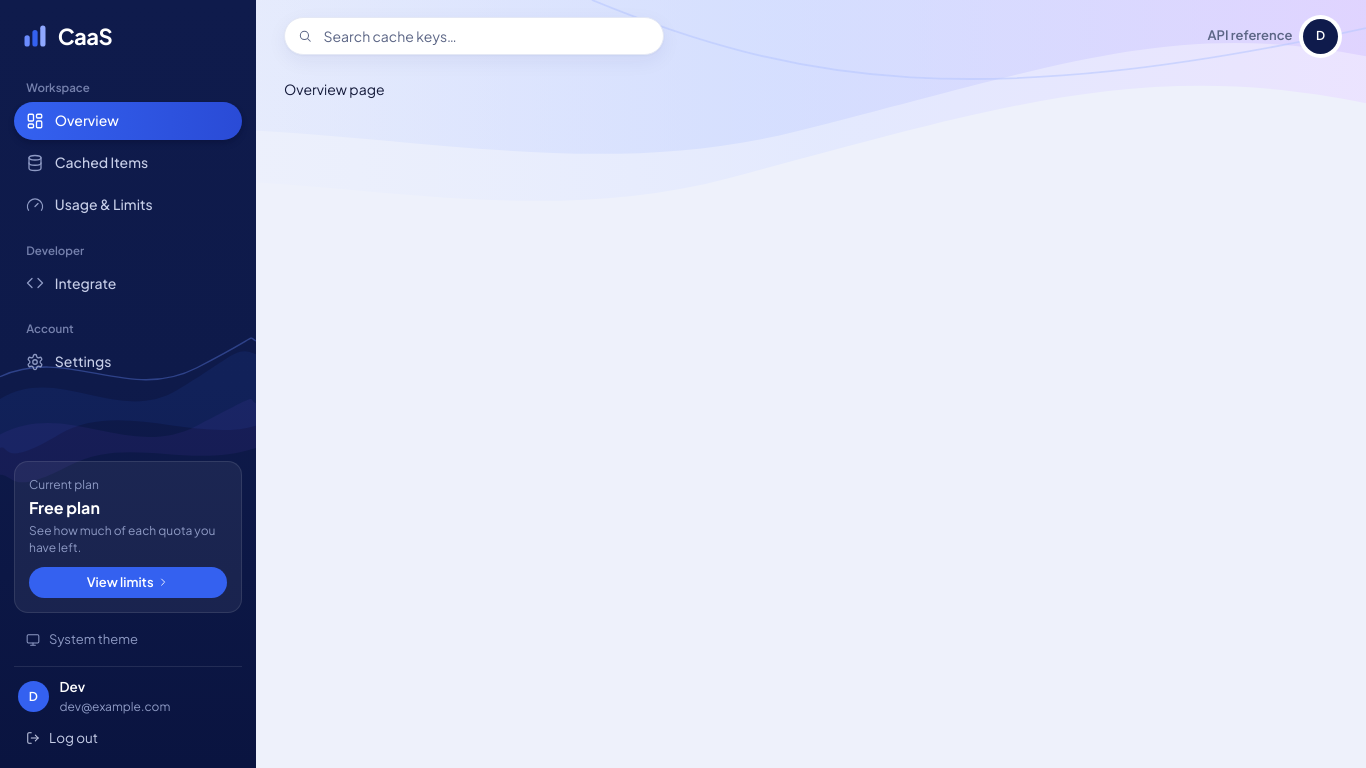
AppShell sidebar navigation › marks the active route and updates the breadcrumb
Expected: the text "Overview page" is shown, [284,80,385,98]
Click the link "Cached Items": (87, 163) [26,153,148,172]
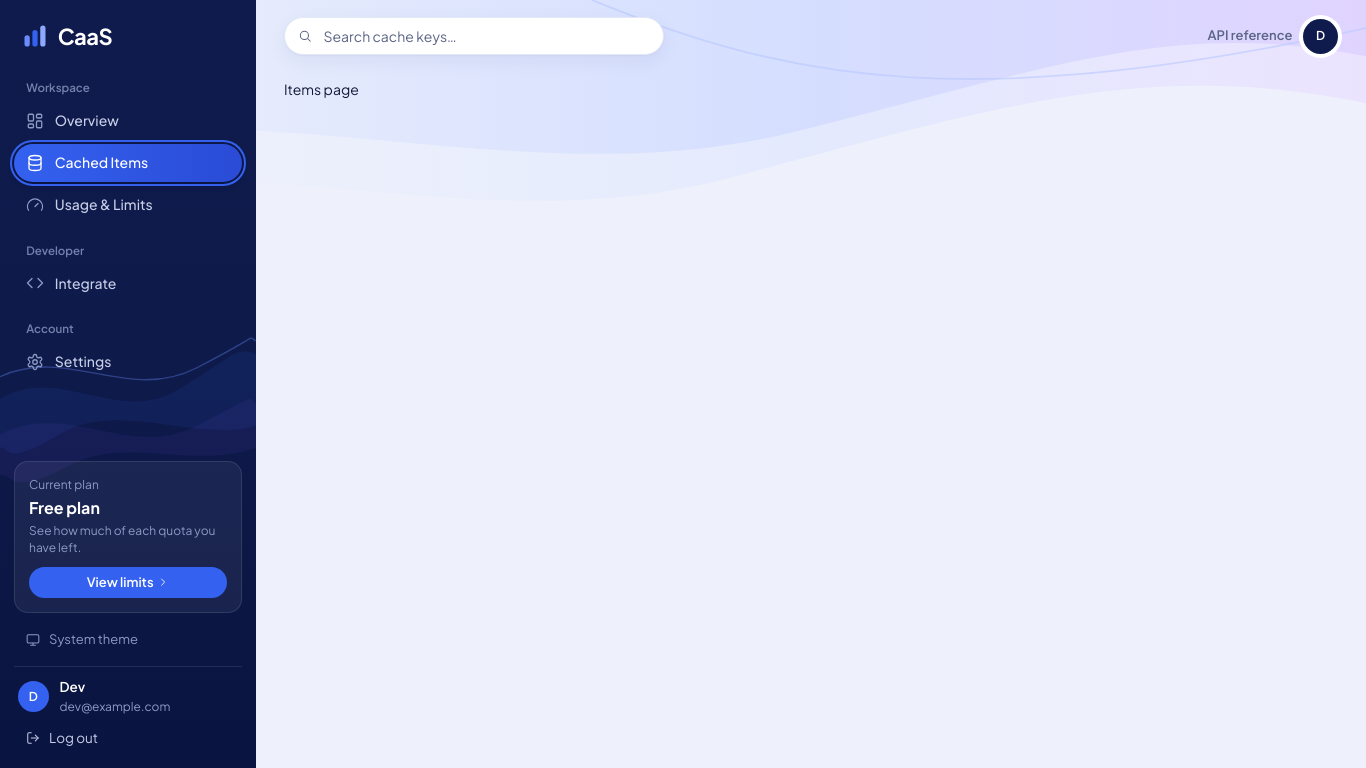
Result: the text "Items page" is shown at [284,80,359,98]
